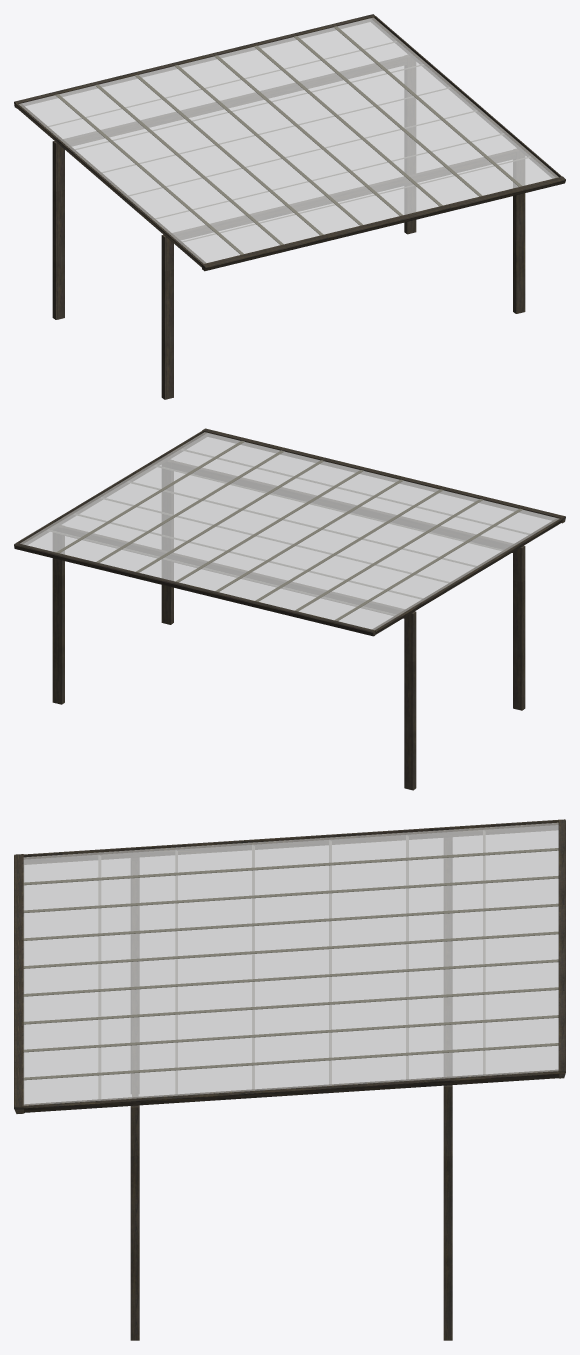
File: APwide_5450-22_blackebony.fbx
3 renders of one model, top to bottom at view 1: azimuth 30°, elevation 25°; view 2: azimuth 150°, elevation 25°; view 3: azimuth 270°, elevation 25°, orthographic. The views are drawn at different scales.
Parts seen in each view (by area): view 1: APwide_5450-22_blackebony; view 2: APwide_5450-22_blackebony; view 3: APwide_5450-22_blackebony.
Part boxes in pixels (x1,y1,x2,y2): APwide_5450-22_blackebony: [14, 14, 565, 399]; APwide_5450-22_blackebony: [14, 428, 565, 790]; APwide_5450-22_blackebony: [14, 819, 565, 1340].
Bounding box in the file's own units: 535 × 266 × 494.
Materials: 4 (3 with a texture image).
